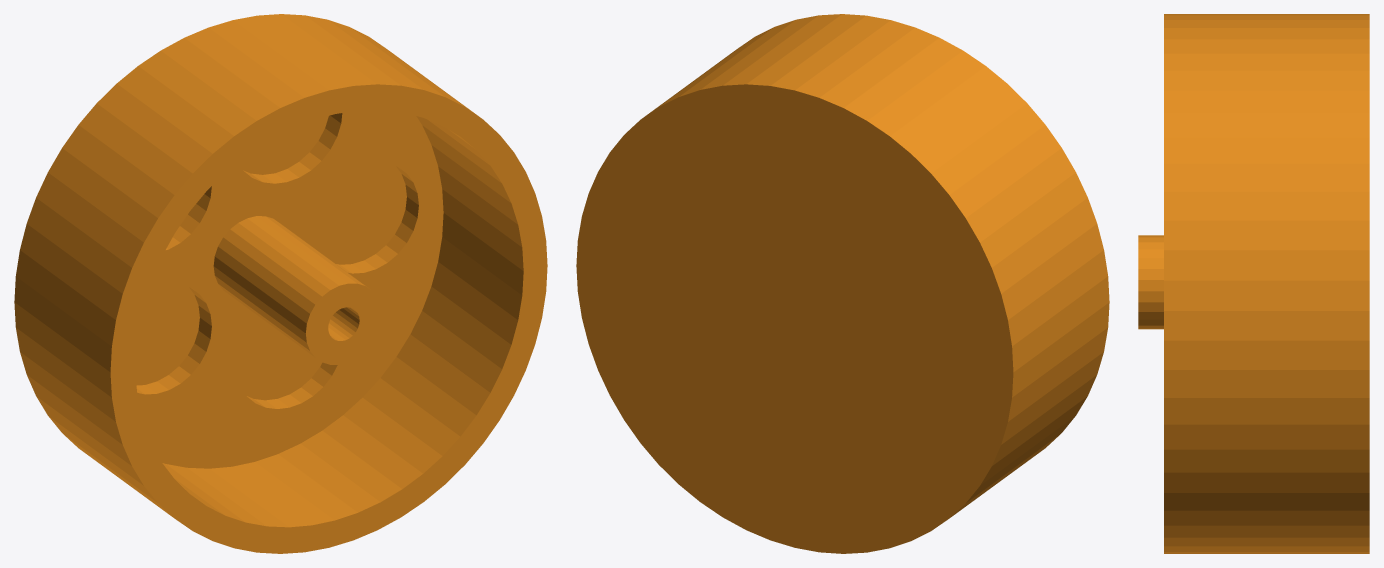
The picture shows the model from 3 angles, left to right: view 1: azimuth 30°, elevation 25°; view 2: azimuth 150°, elevation 25°; view 3: azimuth 270°, elevation 25°; orthographic projection. The views are drawn at different scales.
Visible parts, largest first — view 1: 2; view 2: 2; view 3: 2.
Boxes of the visible parts, x1,y1,x2,y2 form: 2: (14,14,547,553); 2: (576,14,1109,553); 2: (1138,14,1369,553).
Bounding box in the file's own units: 2 × 2 × 0.8571.
